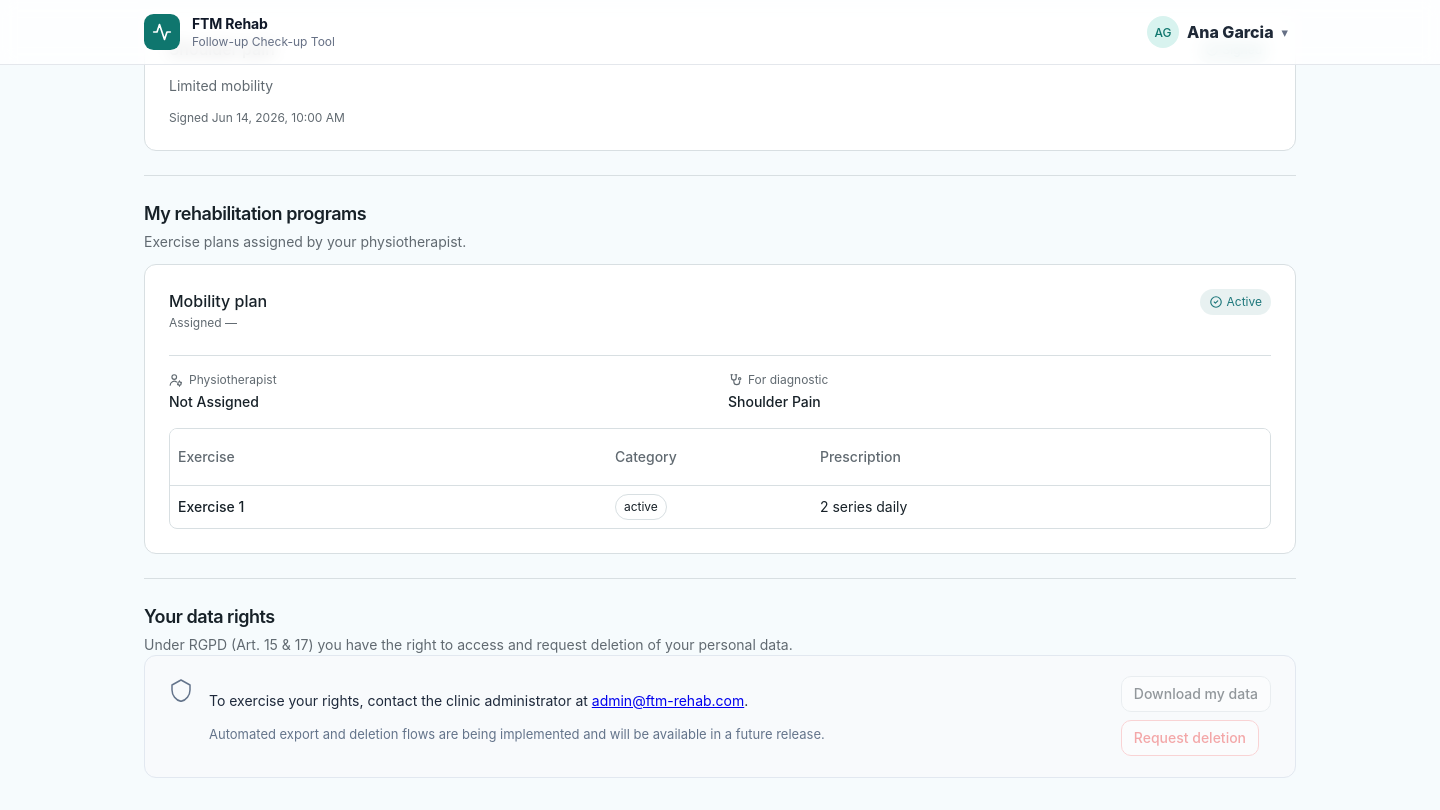
Test: UC-01 medical access shell › GIVEN a patient user WHEN opening the UI THEN shows the patient portal
(page scrolled)
Expected: the heading "Shoulder pain" is shown, [169,37,275,61]
Click the link "Mobility plan" at (720, 409), box [144,264,1296,554]
(page scrolled)
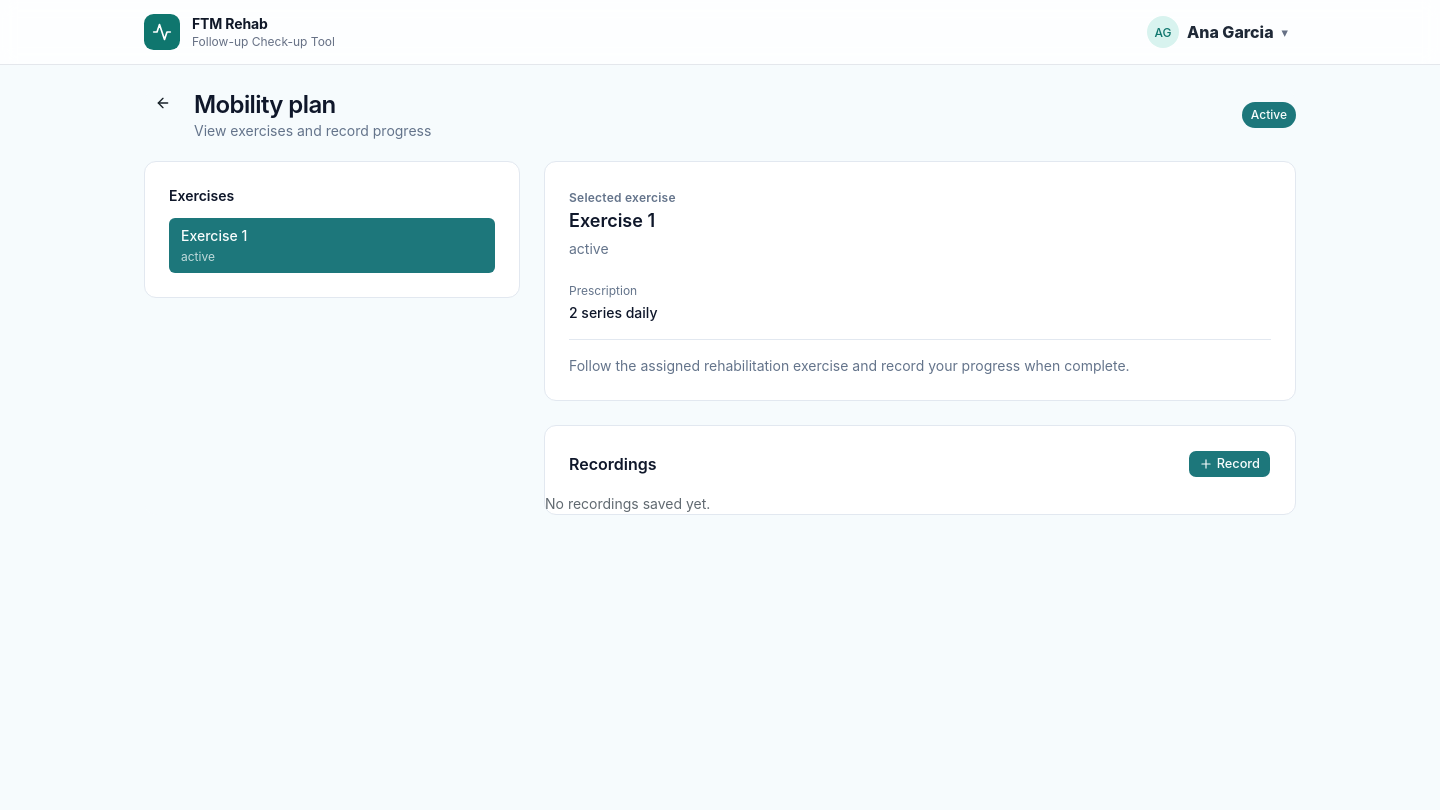
Expected: the heading "Mobility plan" is shown, [194,90,336,119]
Expected: the text "View exercises and record progress" is shown, [194,122,431,139]
